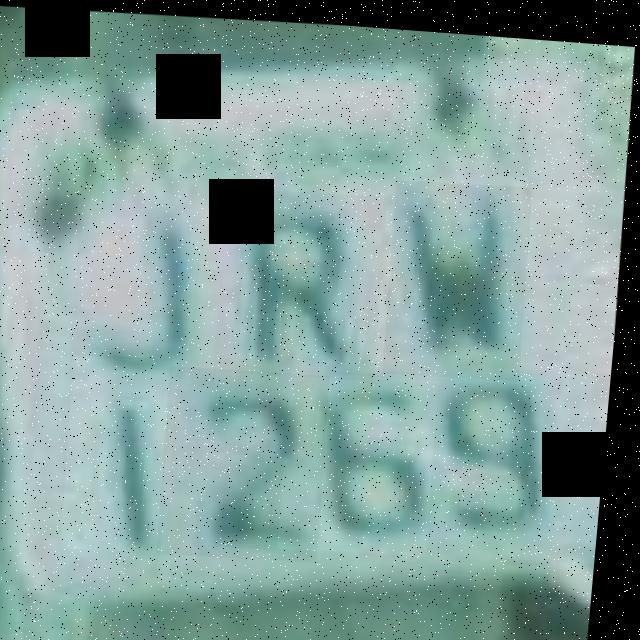1: (67, 352, 187, 552)
2: (163, 360, 339, 559)
6: (284, 364, 447, 551)
9: (412, 357, 564, 552)
J: (72, 167, 234, 386)
R: (217, 181, 393, 377)
W: (385, 171, 538, 374)
